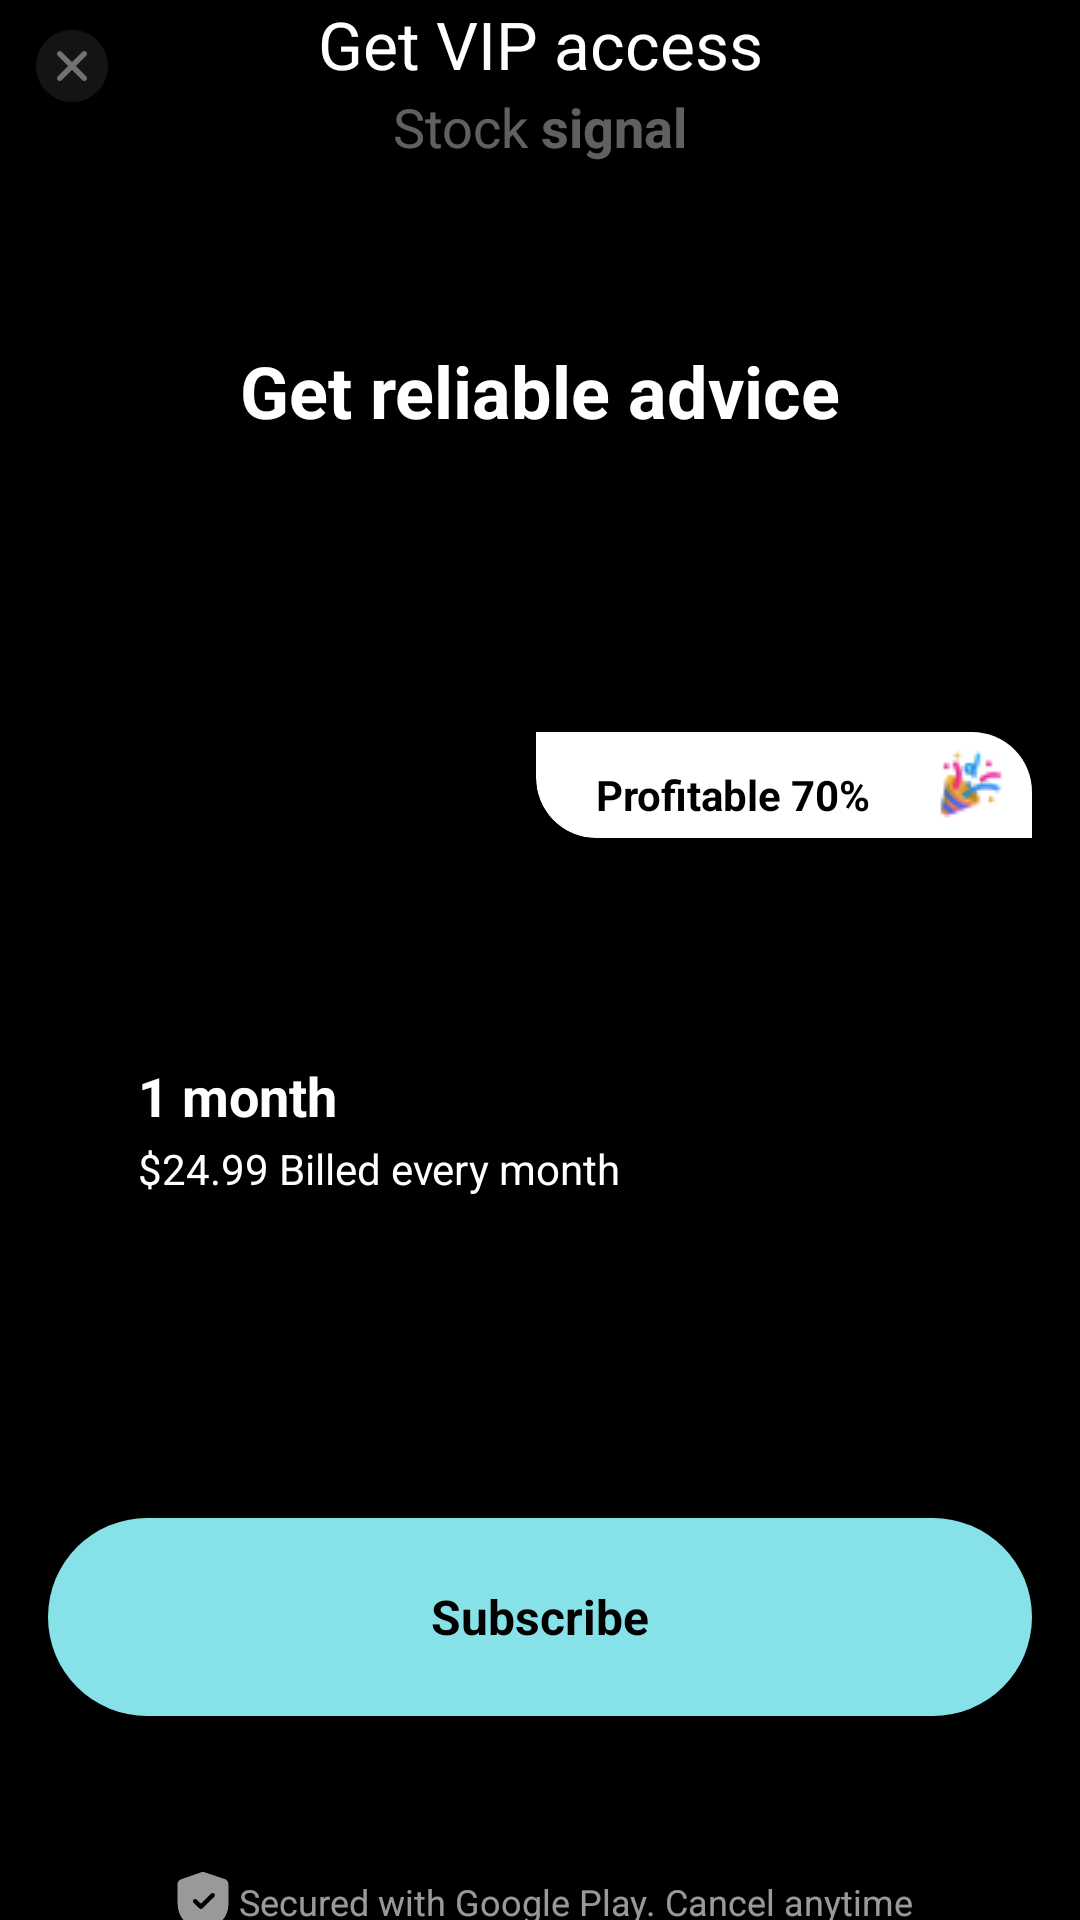

Where icons sit on this 1080*1920 app screen, as (left=x1, top=y1, right=x2, bottom=y2):
dismiss: (left=57, top=51, right=87, bottom=81)
